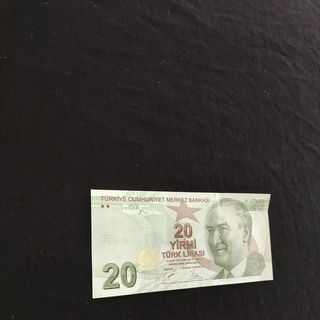20TLFront: (90, 189, 273, 298)
